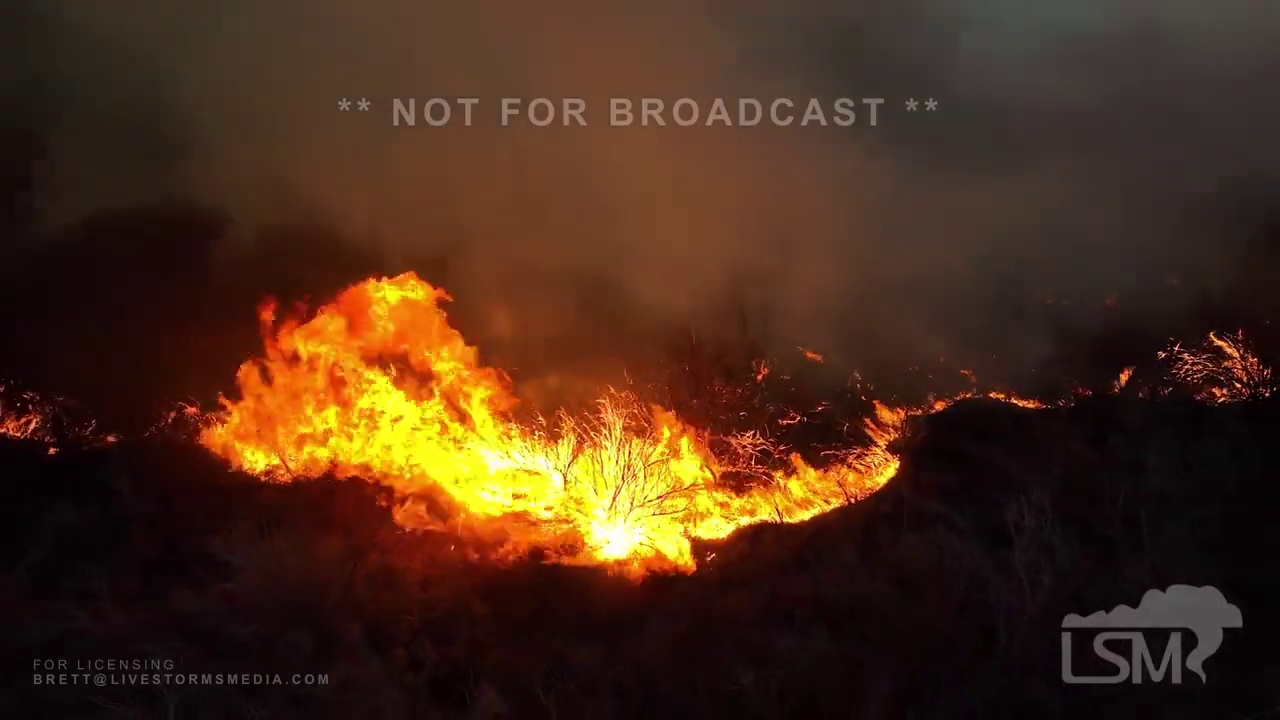forest_fire: (161, 273, 1046, 568), (1159, 332, 1269, 402), (0, 405, 57, 452)
